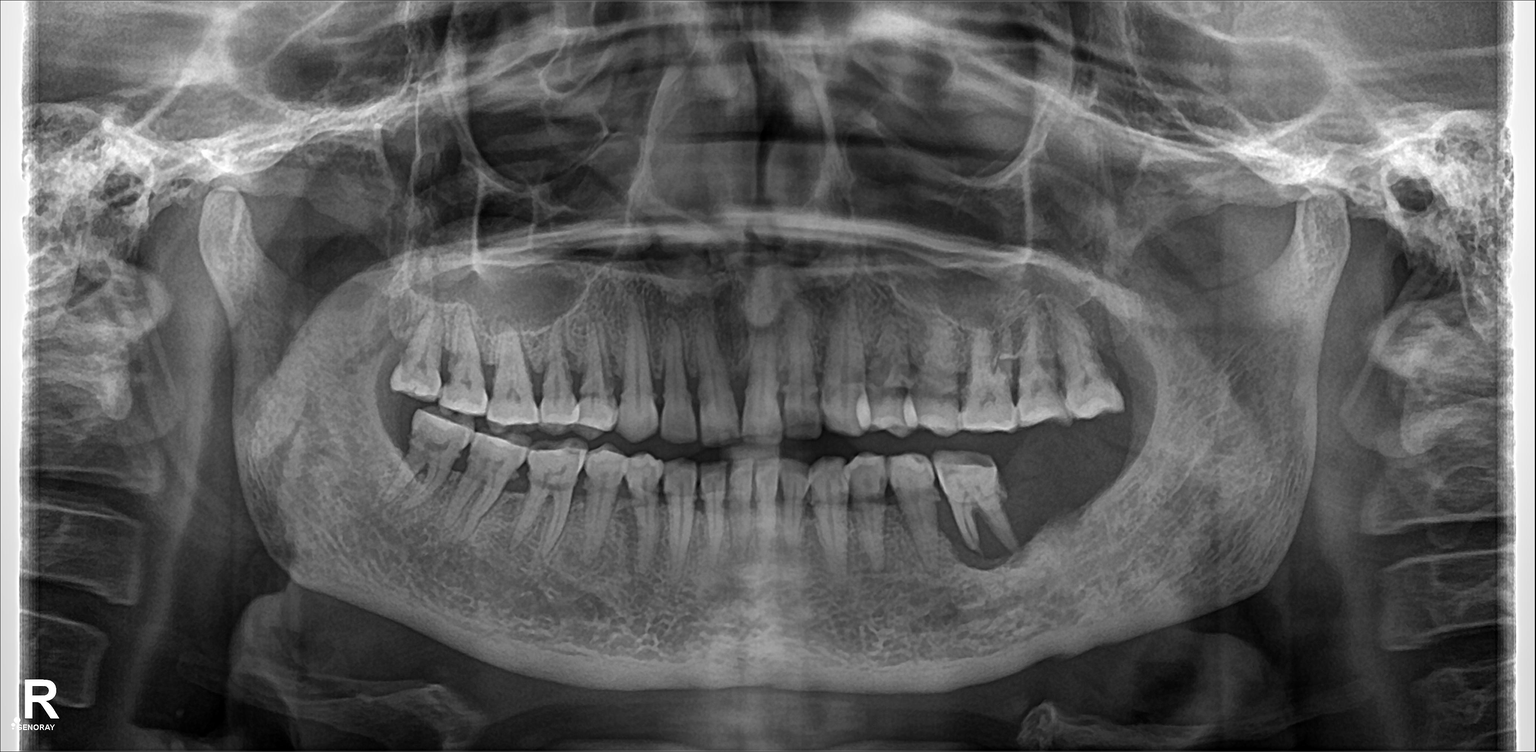Missing Tooth: (1007, 450, 1053, 535), (1108, 309, 1150, 402), (365, 393, 410, 477), (1056, 445, 1092, 535)
Periapical Lesion: (938, 454, 1016, 572)
